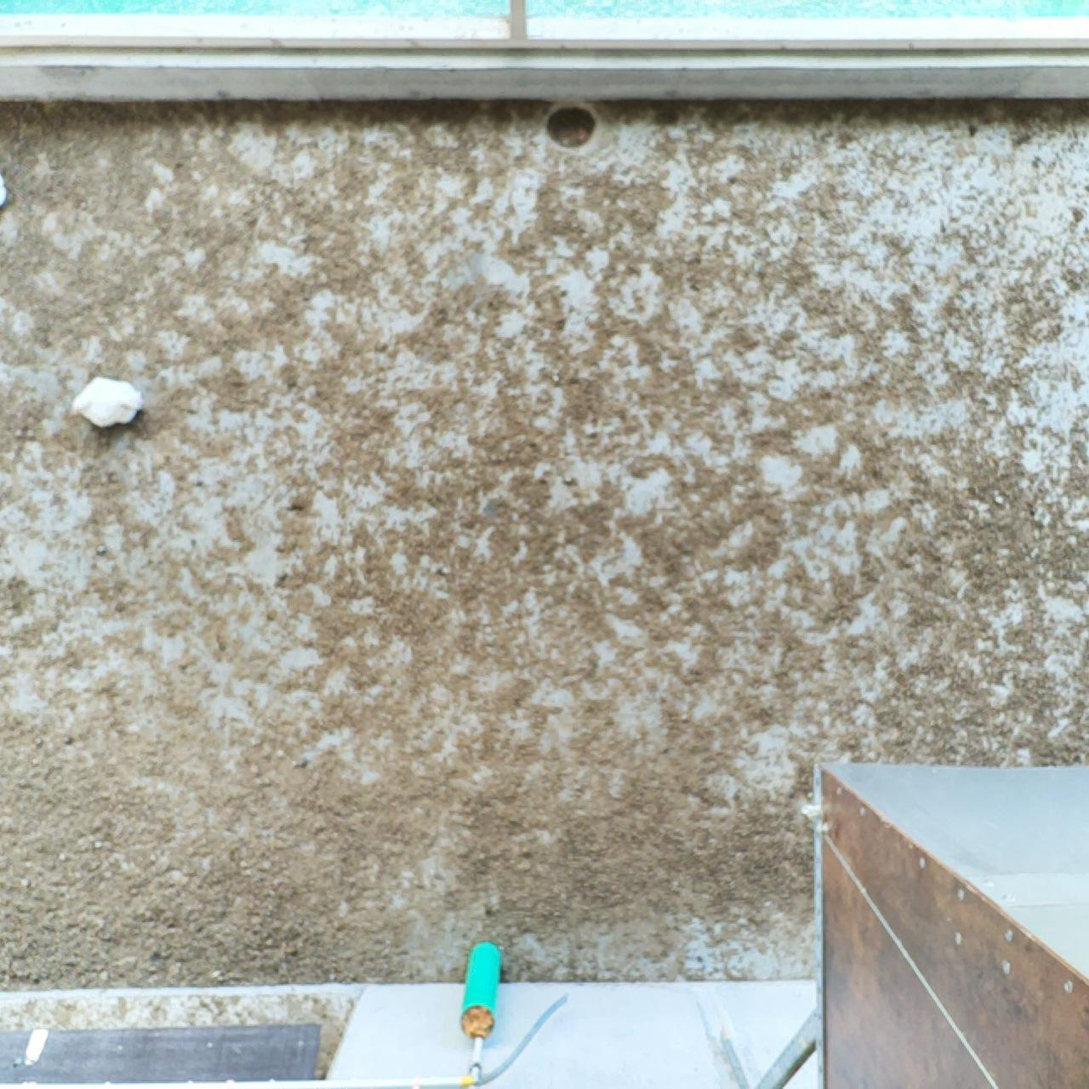chicken: (67, 371, 146, 429)
